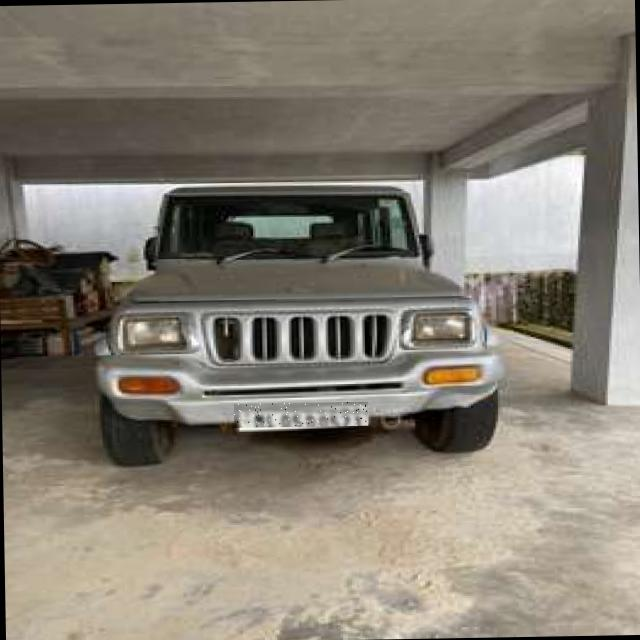Plate: (235, 403, 369, 429)
